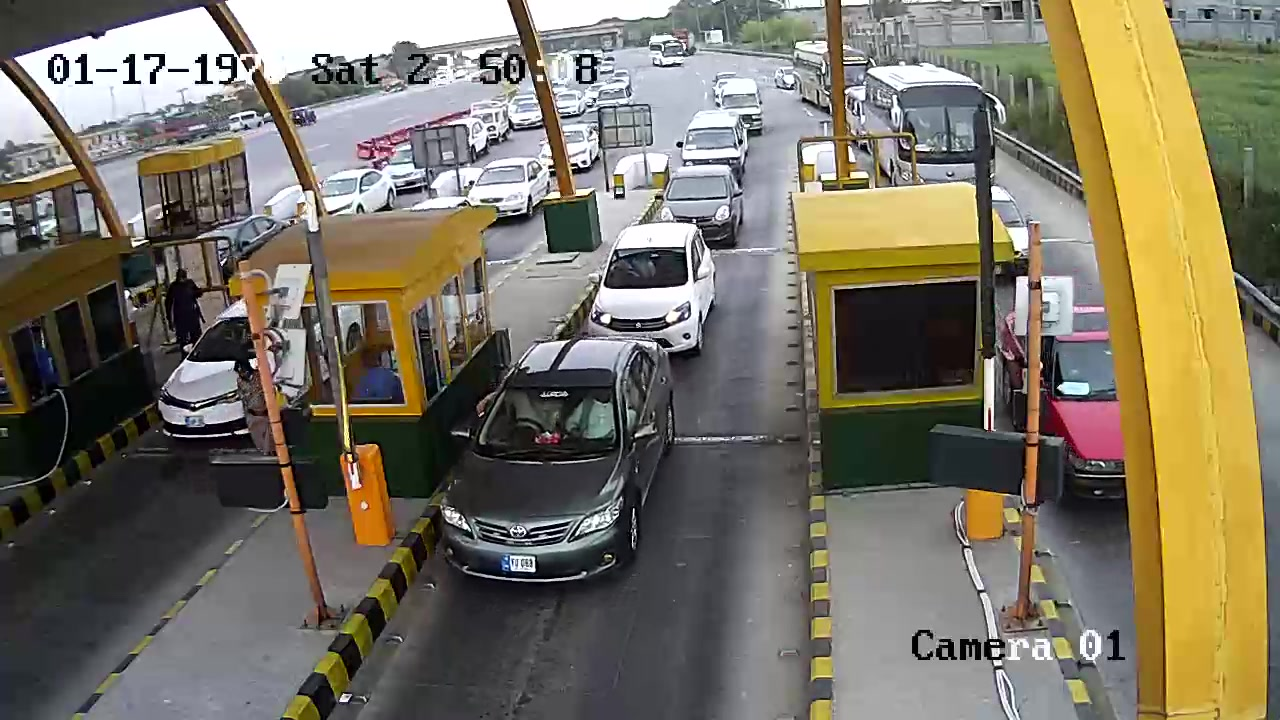F1: (425, 332, 683, 592)
